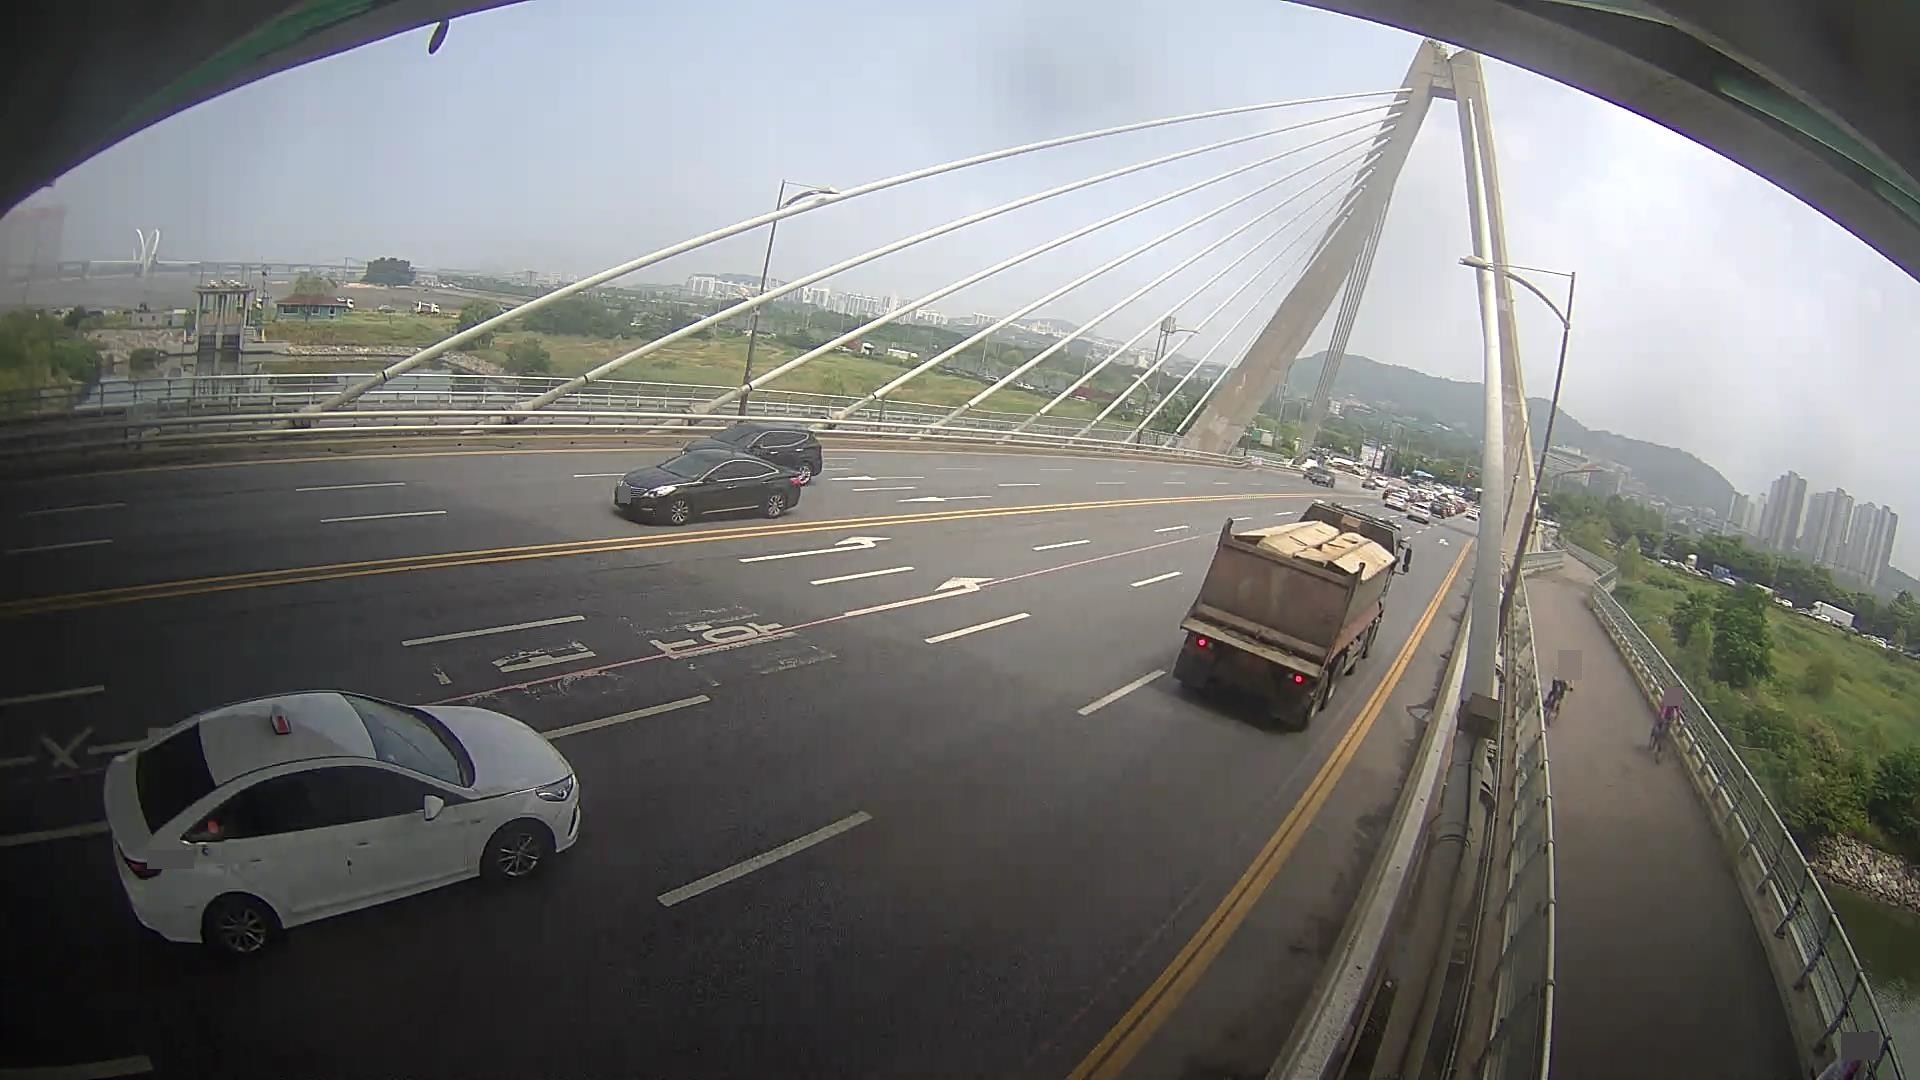정상차량: (1174, 502, 1412, 725)
